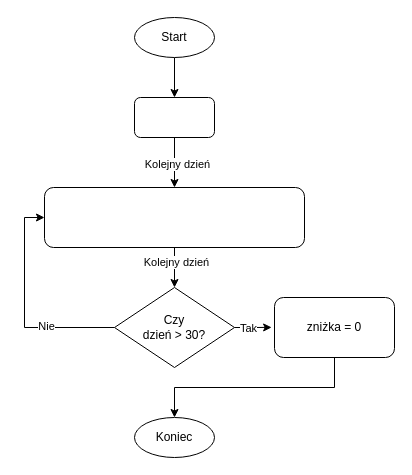
Image size: 412x475. Some labels were removed from this diagram. The shapes that lost their labels are listed below. From the top down, each one's box as (x1, y1, x2, y2) in pixels, then its label:
(134, 96, 214, 138): zniżka = 2% dzień = 1
(44, 186, 304, 248): zniżka = zniżka + 2 punkty procentowe dzień = dzień + 1
